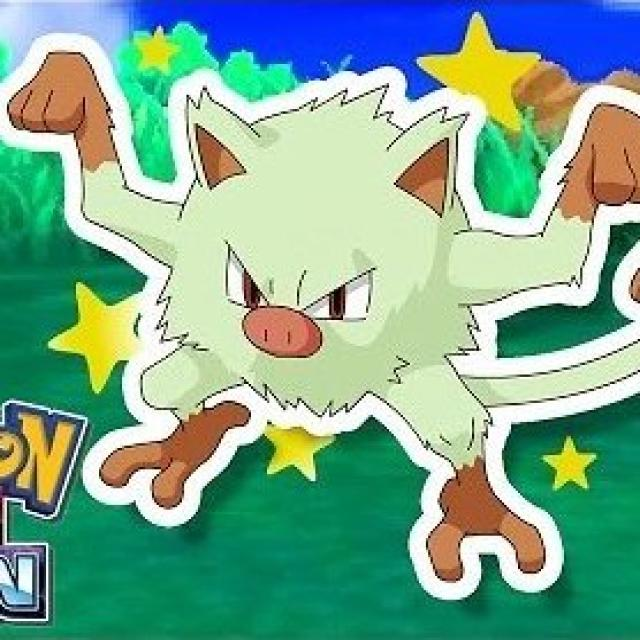Mankey: (101, 75, 579, 532)
